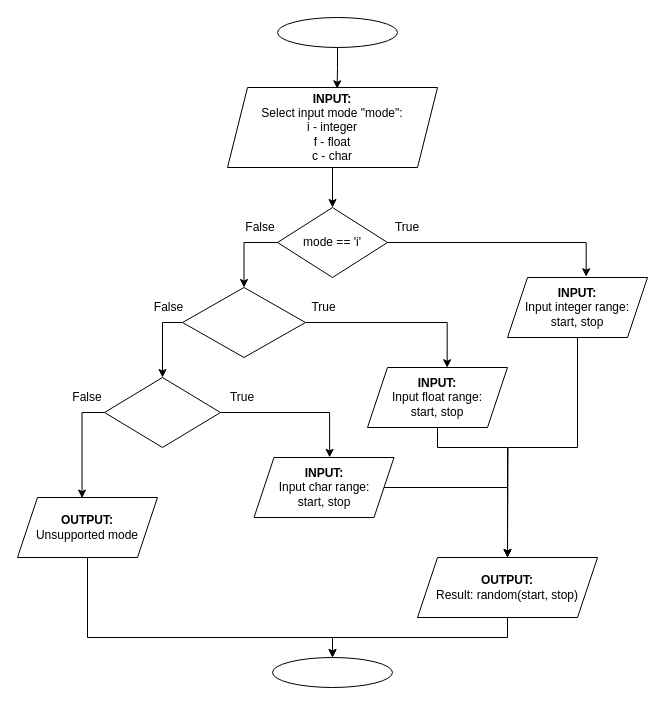
This 665x705 diagram has some shape labels left out. Here are the shapes that lost their labels. From the top down, the centre of each, then its label:
At (x=337, y=32): "BEGIN".
At (x=244, y=322): "mode == 'f'".
At (x=162, y=412): "mode == 'c'".
At (x=332, y=672): "END".
